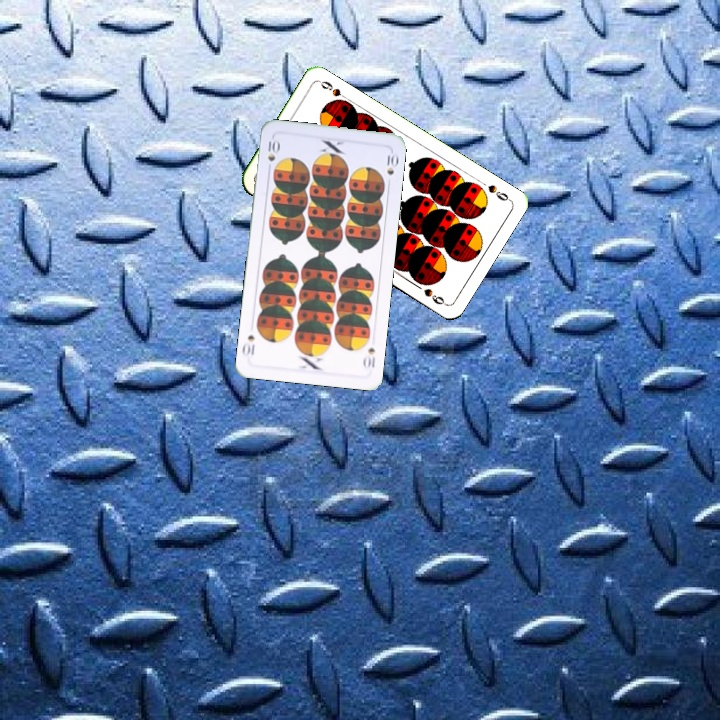S10: (264, 136, 281, 174), (359, 344, 377, 371)
S9: (483, 180, 513, 204)
